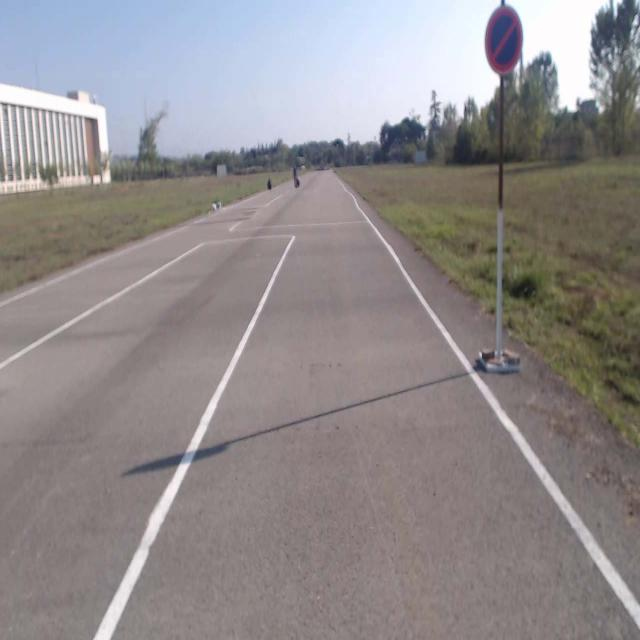parkyasak: (485, 6, 523, 73)
